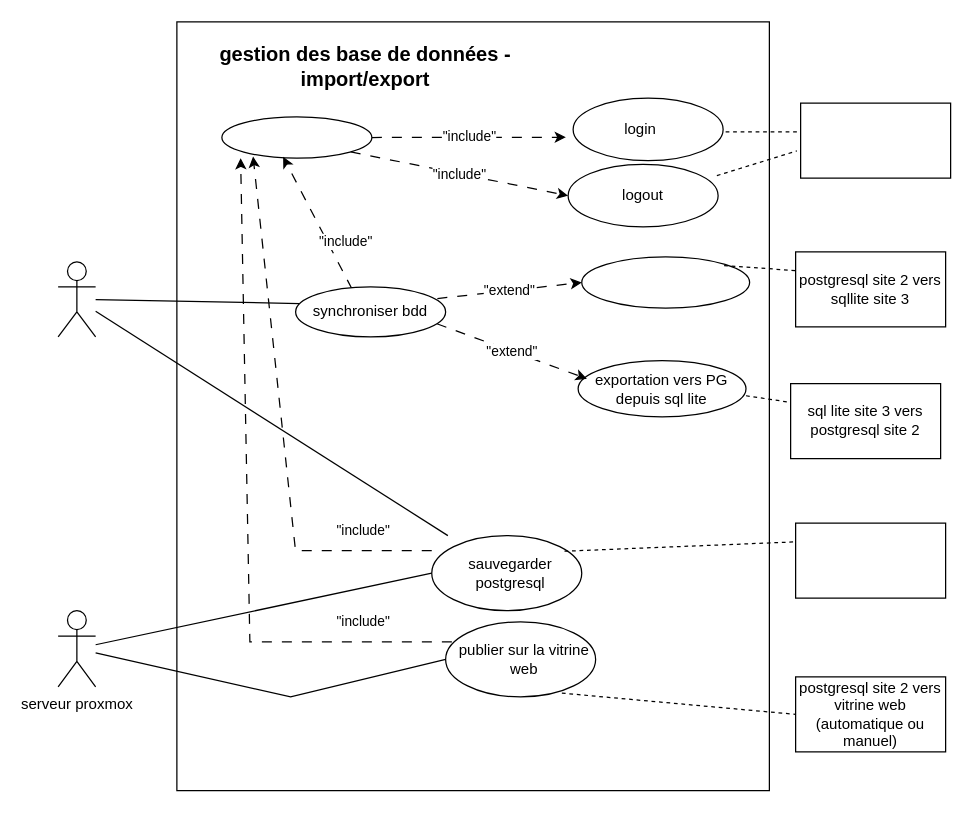
Image size: 973x813. Some labels were removed from this diagram. The centre of each missing label's shape, as x and y in pixels:
authentifier: point 296,137
importation PG vers sql lite: point 665,282
responsable: point 76,299
sauvegarde manuelle ou automatique: point 870,560
sauvegarder les log dans postgresql: point 875,140
